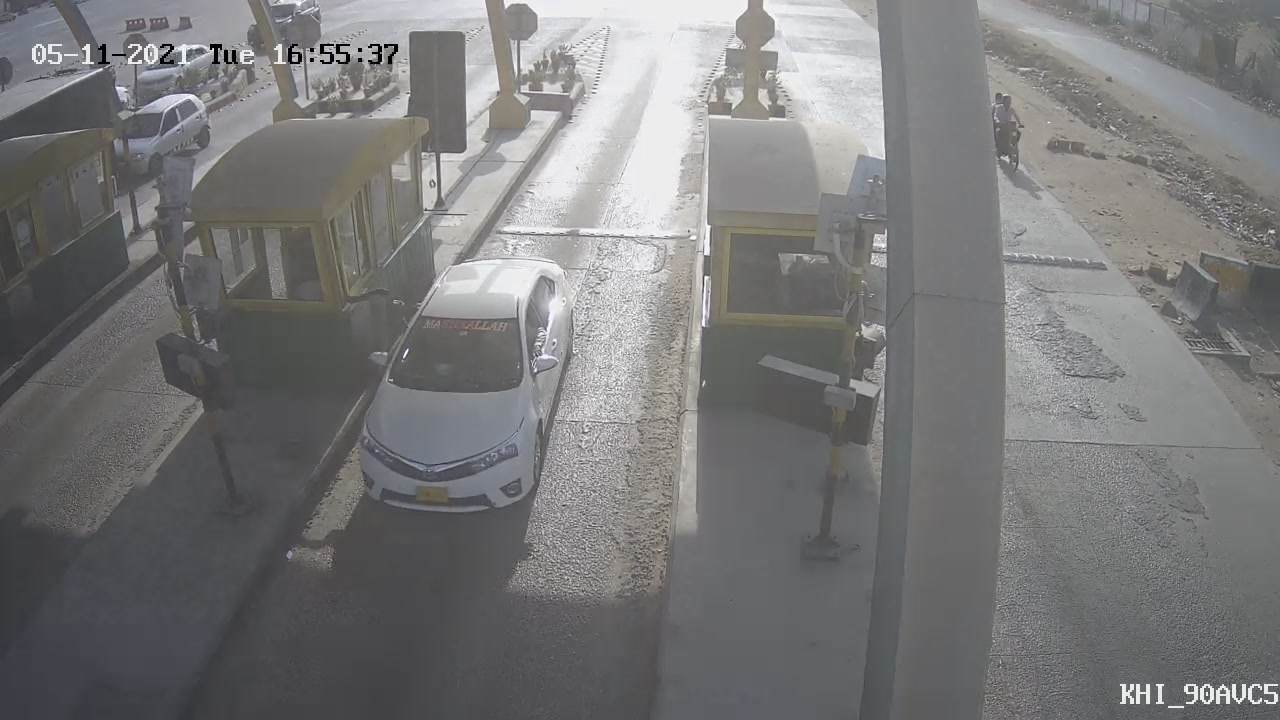F1: (330, 233, 601, 535)
